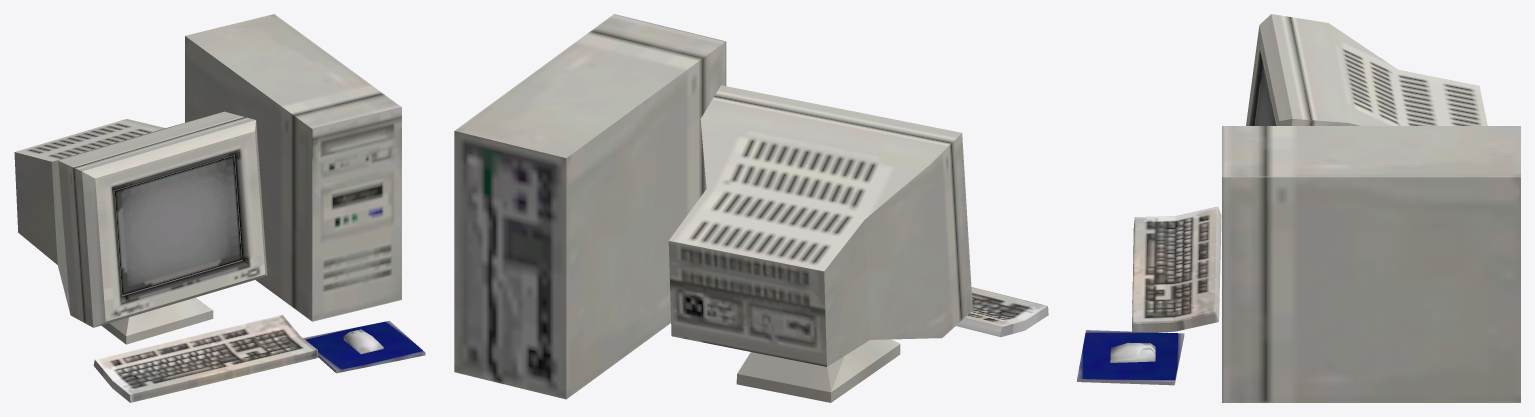
Rendered from Computer02.glb.
3 renders of one model, left to right at view 1: azimuth 30°, elevation 25°; view 2: azimuth 150°, elevation 25°; view 3: azimuth 270°, elevation 25°, orthographic. The views are drawn at different scales.
Parts seen in each view (by area): view 1: COMPUTER02; view 2: COMPUTER02; view 3: COMPUTER02.
Part boxes in pixels (x1,y1,x2,y2): COMPUTER02: (14,14,425,402); COMPUTER02: (454,14,1048,402); COMPUTER02: (1077,14,1520,402).
Bounding box in the file's own units: 0.84 × 0.502 × 0.891.
Materials: 1 (1 with a texture image).
